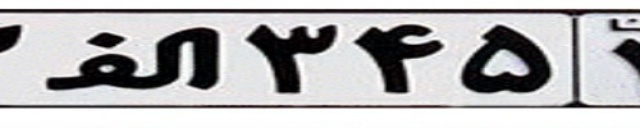3: (245, 22, 340, 94)
4: (353, 23, 444, 94)
5: (458, 23, 554, 93)
alef: (42, 26, 225, 90)
